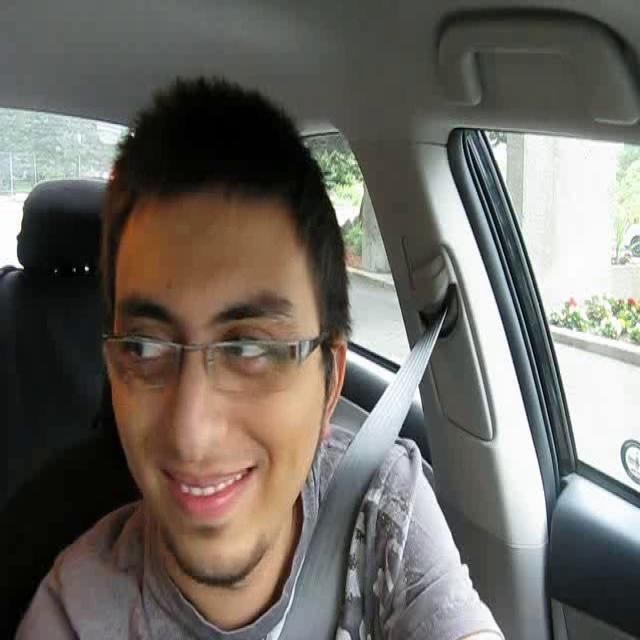close: (154, 455, 261, 520)
